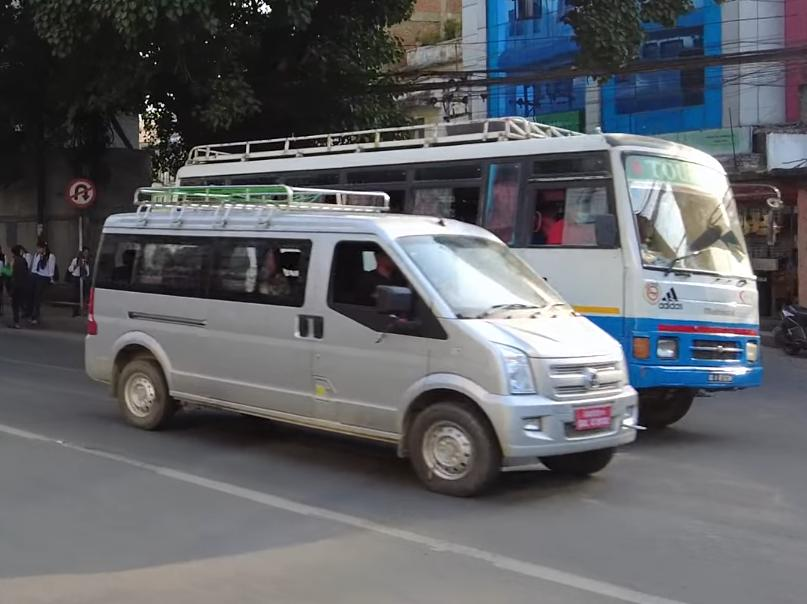micro_bus: (72, 180, 640, 502)
